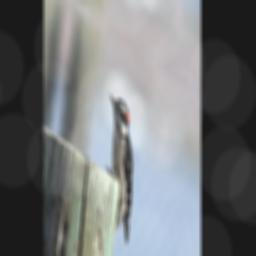Woodpecker: (94, 90, 144, 244)
